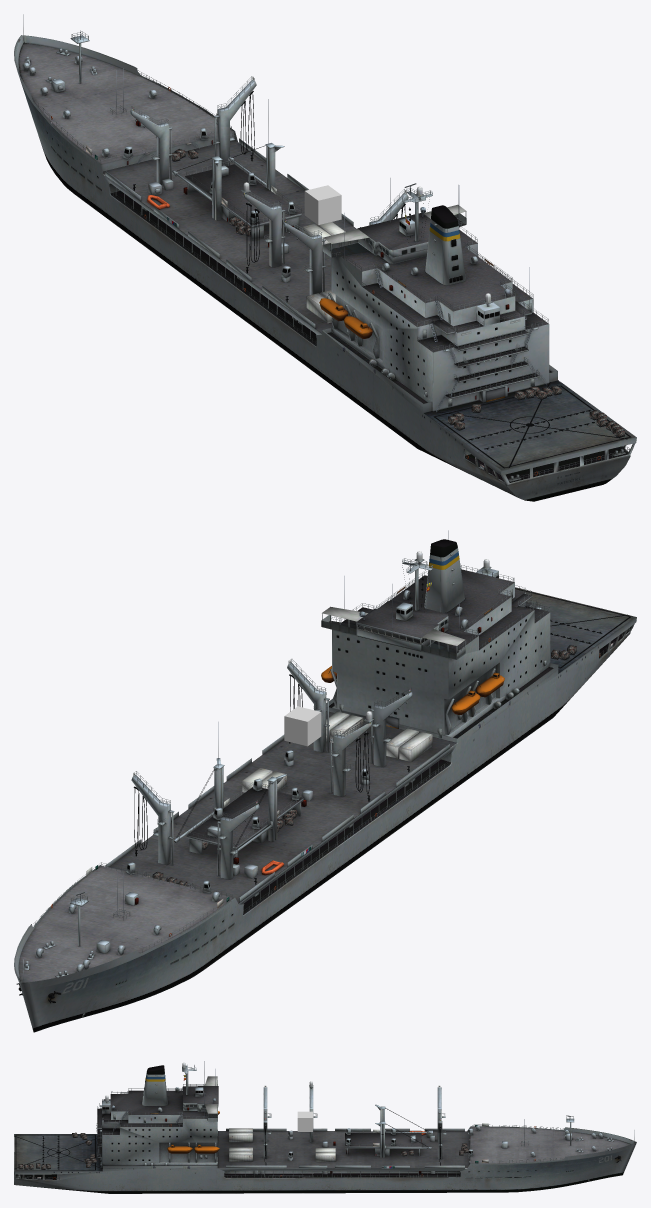
File: patuxent_from_max.glb
The picture shows the model from 3 angles, top to bottom: view 1: azimuth 30°, elevation 25°; view 2: azimuth 150°, elevation 25°; view 3: azimuth 270°, elevation 25°; orthographic projection. The views are drawn at different scales.
Visible parts, largest first — view 1: OceanSupplyShip, Cube; view 2: OceanSupplyShip, Cube; view 3: OceanSupplyShip, Cube.
Part boxes in pixels (x1,y1,x2,y2): OceanSupplyShip: [14, 14, 636, 501]; Cube: [304, 185, 341, 224]; OceanSupplyShip: [14, 530, 636, 1032]; Cube: [284, 706, 321, 746]; OceanSupplyShip: [14, 1061, 636, 1193]; Cube: [297, 1111, 312, 1131].
Size of the model in its own units: 12.37 by 16.2 by 81.16.
Materials: 2 (1 with a texture image).
